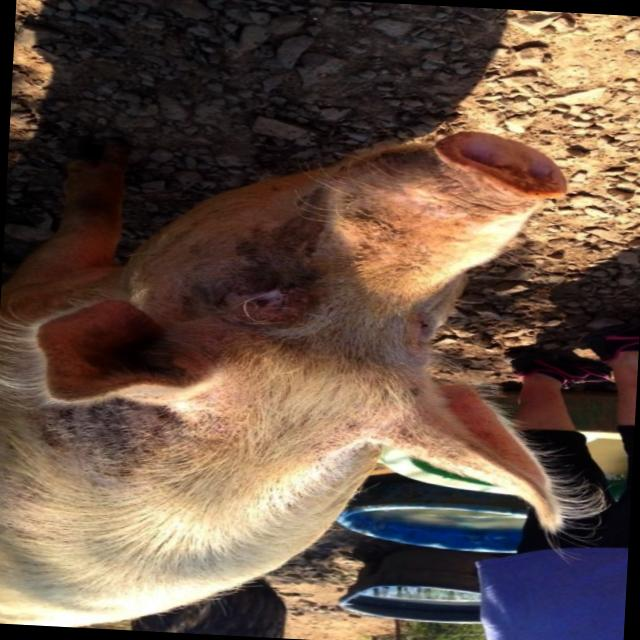pig: (0, 119, 567, 627)
